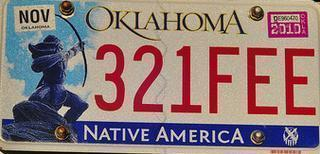placa de veiculo: (6, 0, 314, 146)
